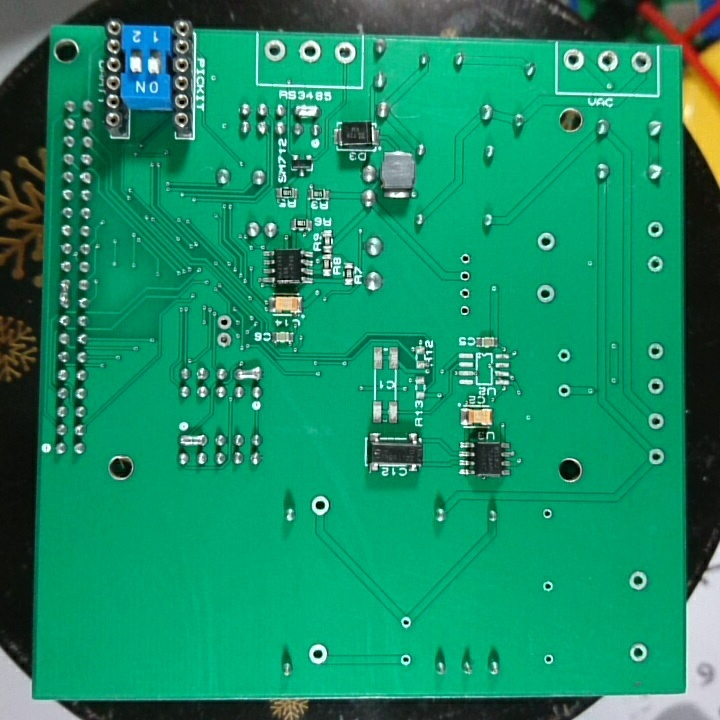F: (628, 48, 656, 79), (263, 37, 290, 67), (333, 40, 361, 68), (533, 228, 560, 256), (304, 640, 331, 667), (297, 39, 325, 64), (309, 490, 332, 520), (597, 48, 621, 76), (533, 281, 557, 309), (563, 47, 586, 75), (627, 640, 650, 667), (645, 374, 670, 398), (645, 409, 669, 434), (628, 569, 651, 594), (554, 378, 578, 401), (646, 445, 668, 470), (645, 252, 667, 275), (539, 576, 561, 599), (396, 610, 416, 635), (646, 339, 667, 362), (214, 311, 238, 331), (646, 218, 666, 241), (554, 345, 574, 368), (457, 247, 478, 268), (540, 650, 559, 673), (216, 330, 239, 349), (539, 502, 558, 524), (456, 301, 476, 321), (397, 650, 415, 671), (457, 288, 476, 303), (458, 268, 474, 284)
P: (233, 362, 270, 385), (289, 99, 326, 122), (176, 428, 210, 449), (55, 274, 74, 309)
